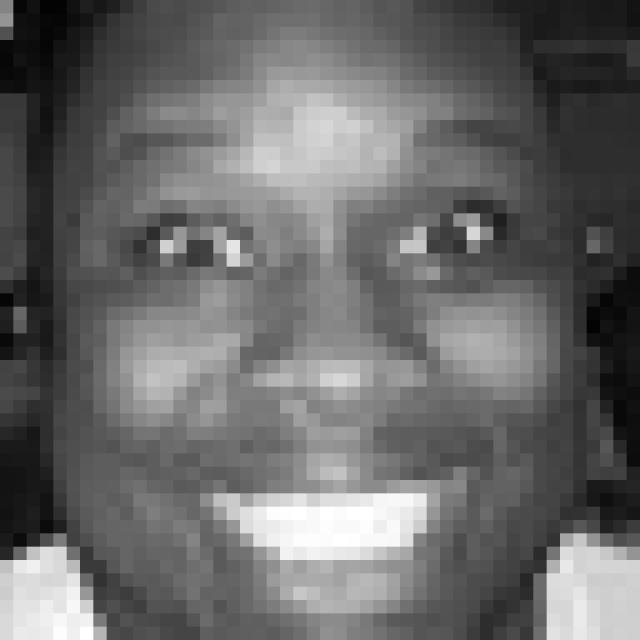happy: (110, 117, 536, 628)
